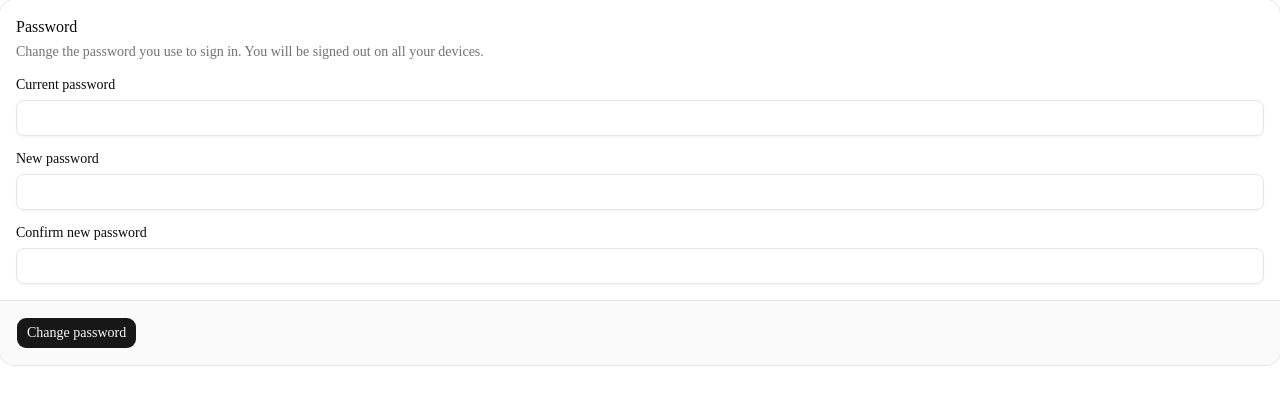
Scenario: PasswordCard › a mismatched confirmation never reaches the endpoint
The image size is (1280, 411).
Type "s3cret-password" into the password field labelled "Current password".
click(640, 118); type("s3cret-password")  # box [16,100,1264,136]
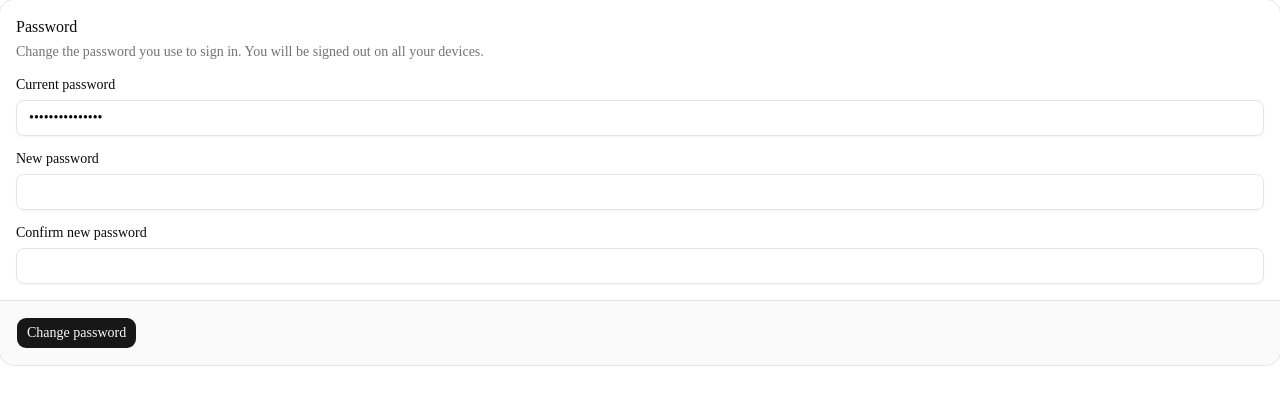
Type "n3w-s3cret-password" into the password field labelled "New password".
click(640, 192); type("n3w-s3cret-password")  # box [16,174,1264,210]
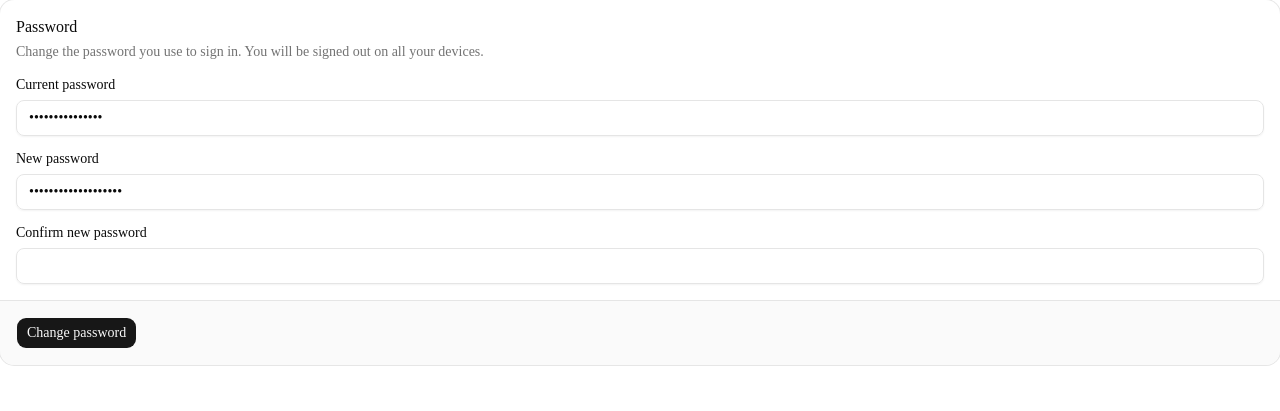
Type "different-pass" into the password field labelled "Confirm new password".
click(640, 266); type("different-pass")  # box [16,248,1264,284]
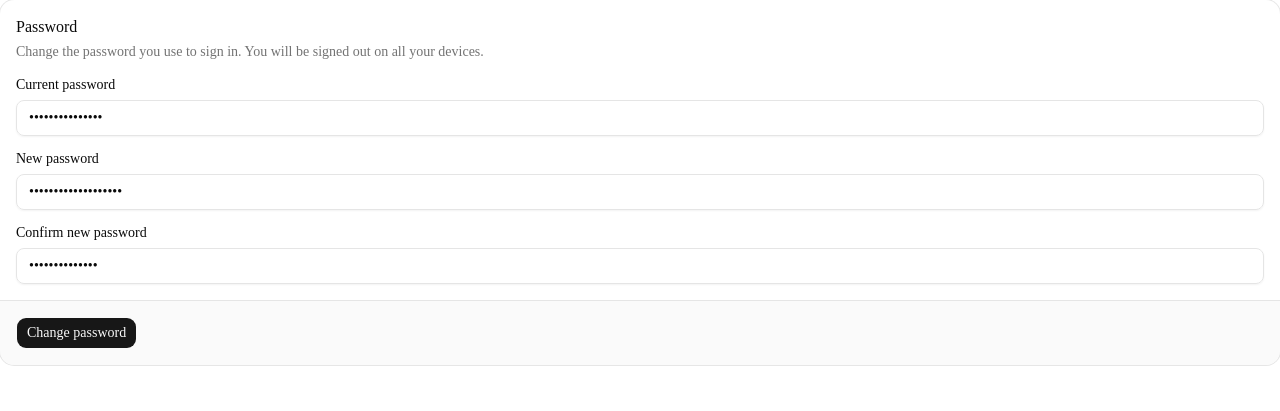
Click the button "Change password".
click(77, 333)  # box [16,317,137,349]
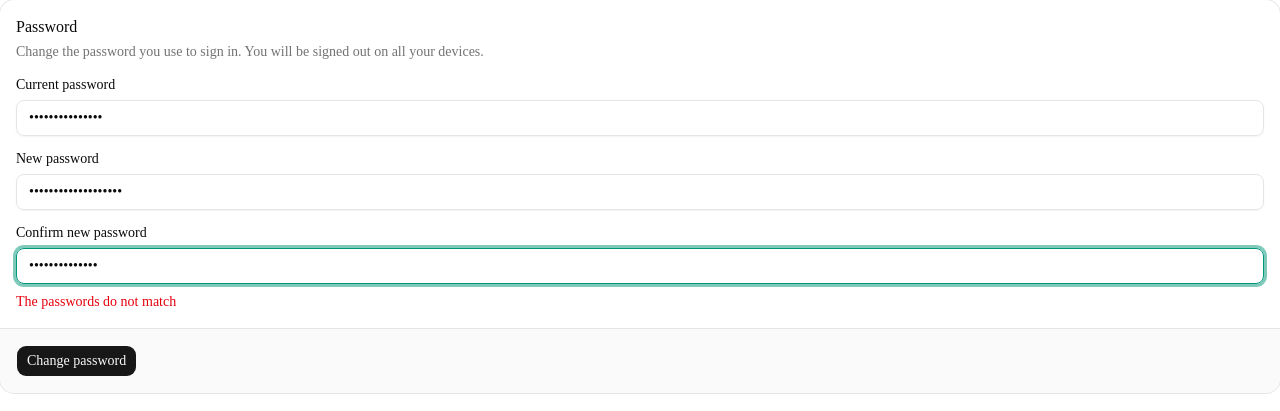
expect the text "The passwords do not match" is shown: met, box [16,294,176,309]
